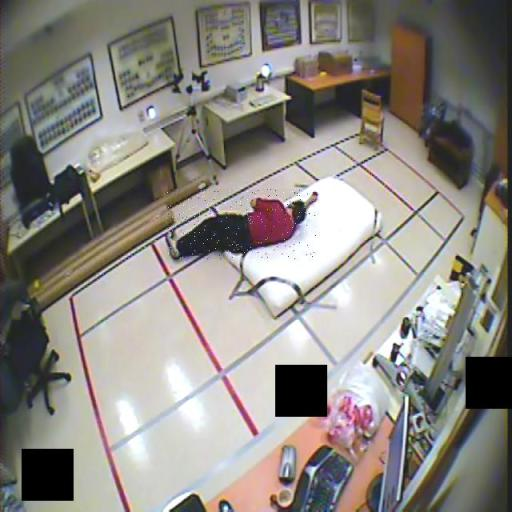Fall: (167, 189, 318, 259)
